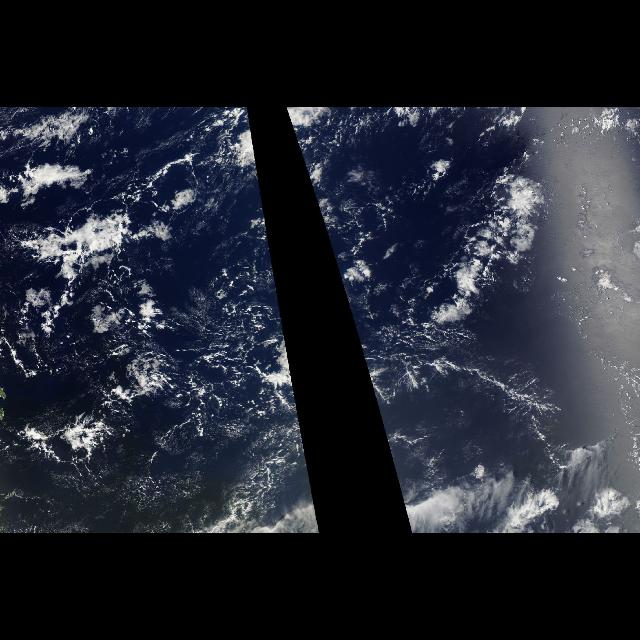Gravel: (84, 241, 320, 534)
